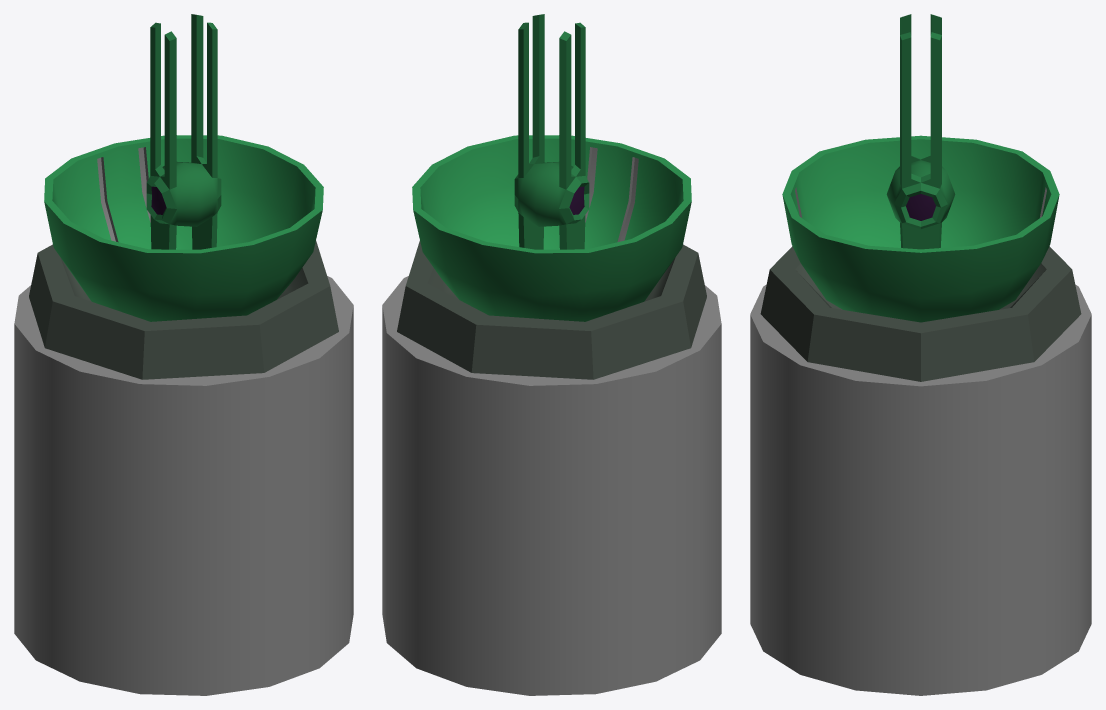
Rendered from flak.fbx.
3 views of the same model, side by side, from view 1: azimuth 30°, elevation 25°; view 2: azimuth 150°, elevation 25°; view 3: azimuth 270°, elevation 25° (orthographic).
Parts seen in each view (by area): view 1: base1, dish, rails; view 2: base1, dish, rails; view 3: base1, dish, rails.
Part boxes in pixels (x1,y1,x2,y2): base1: (14, 241, 353, 695); dish: (44, 135, 323, 321); rails: (146, 14, 221, 249); base1: (382, 241, 721, 695); dish: (412, 135, 691, 321); rails: (514, 14, 589, 249); base1: (750, 246, 1091, 695); dish: (782, 135, 1059, 322); rails: (886, 14, 955, 249).
Size of the model in its own units: 19.48 by 37.77 by 19.48.
1 material, 1 textured.
